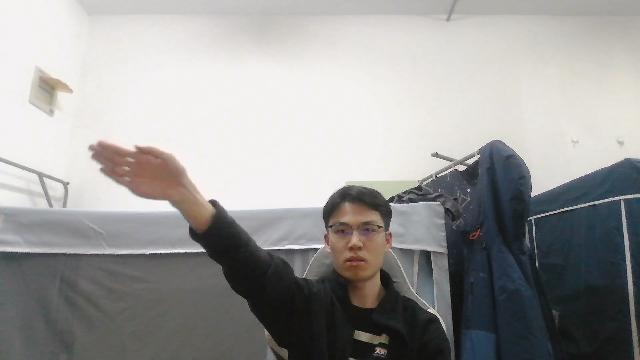five: (83, 136, 200, 206)
